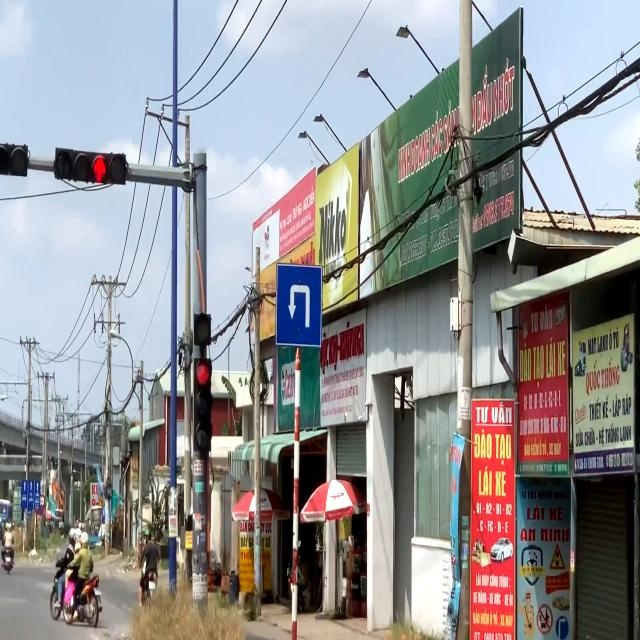bien_chi_dan: (275, 262, 323, 348)
